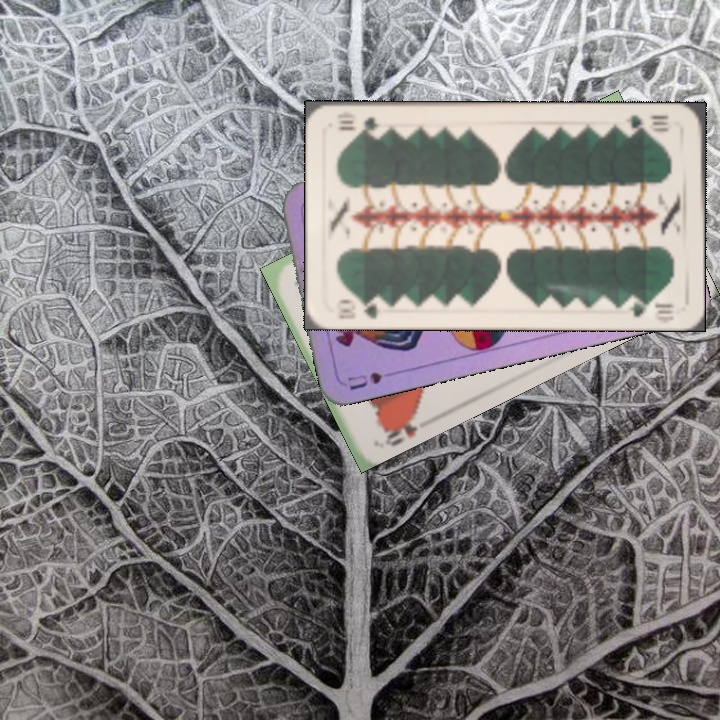G10: (332, 294, 388, 321), (620, 111, 671, 136)
HO: (379, 406, 421, 449)
SU: (343, 366, 403, 393)
